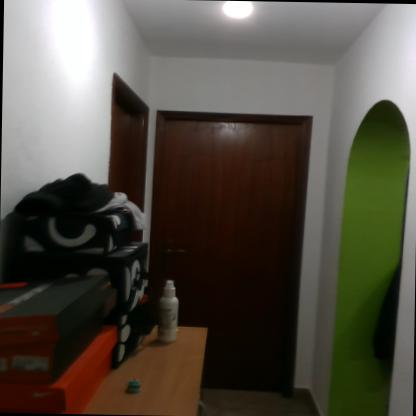closed: (140, 95, 320, 398)
